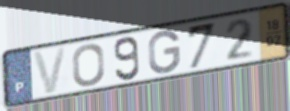2: (225, 16, 255, 63)
7: (184, 21, 219, 71)
9: (113, 36, 141, 82)
G: (147, 29, 182, 76)
O: (71, 42, 106, 89)
V: (31, 45, 69, 97)
